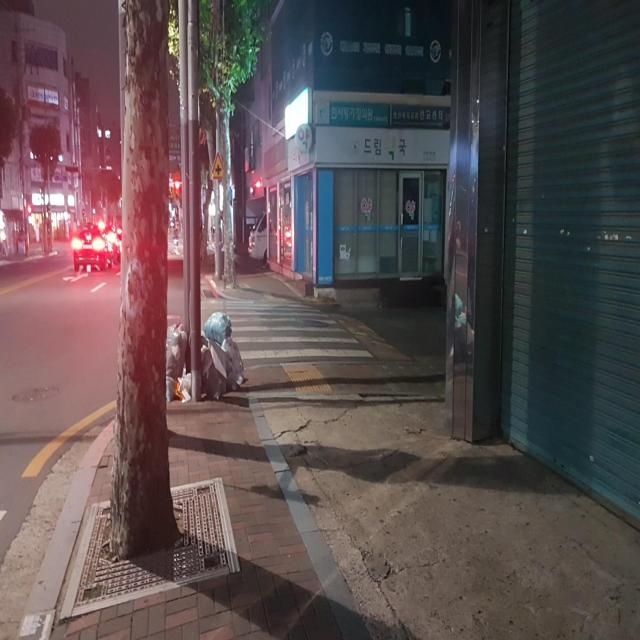횡단보도: (225, 299, 374, 360)
